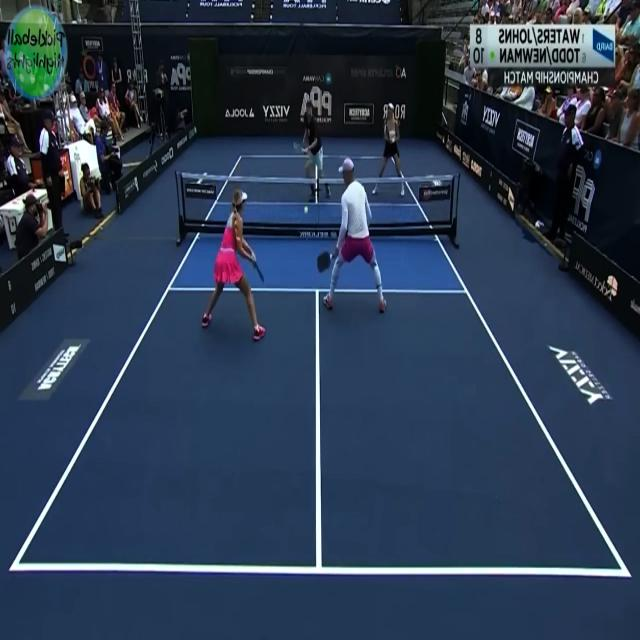Pickleball: (304, 204, 310, 216)
